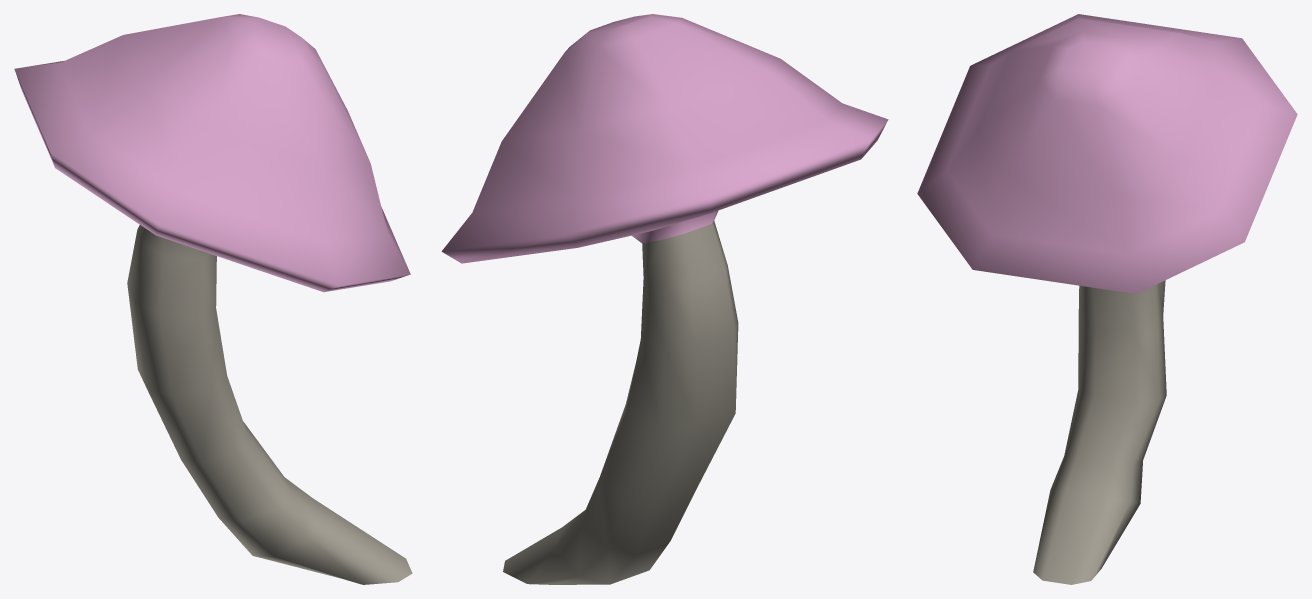
The model's file is Mushroom_05.fbx.
3 renders of one model, left to right at view 1: azimuth 30°, elevation 25°; view 2: azimuth 150°, elevation 25°; view 3: azimuth 270°, elevation 25°, orthographic. The views are drawn at different scales.
Parts seen in each view (by area): view 1: champi_06; view 2: champi_06; view 3: champi_06.
Part boxes in pixels (box(x1,y1,x2,y2)): champi_06: box(14, 14, 412, 584); champi_06: box(441, 14, 888, 584); champi_06: box(917, 14, 1297, 584).
Bounding box in the file's own units: 0.4595 × 0.6851 × 0.49.
